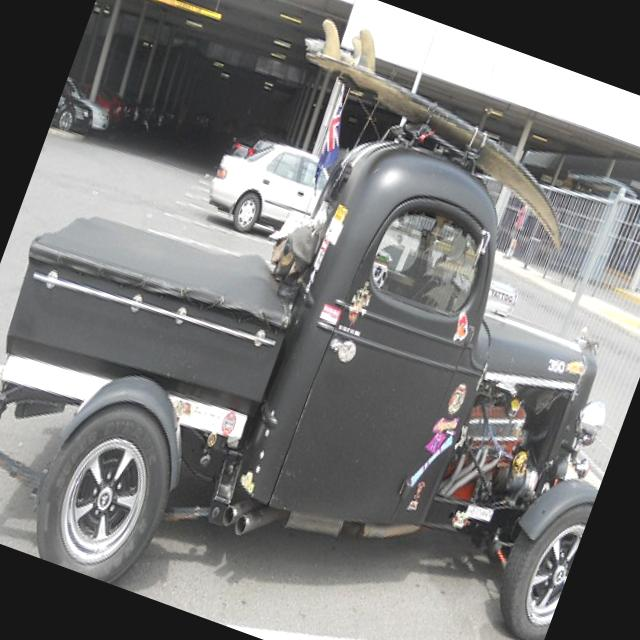Vehicle: (0, 7, 640, 640), (198, 125, 334, 255), (50, 61, 127, 147), (223, 111, 290, 169), (224, 121, 293, 174), (82, 82, 130, 140), (232, 130, 274, 168), (114, 96, 140, 130)
